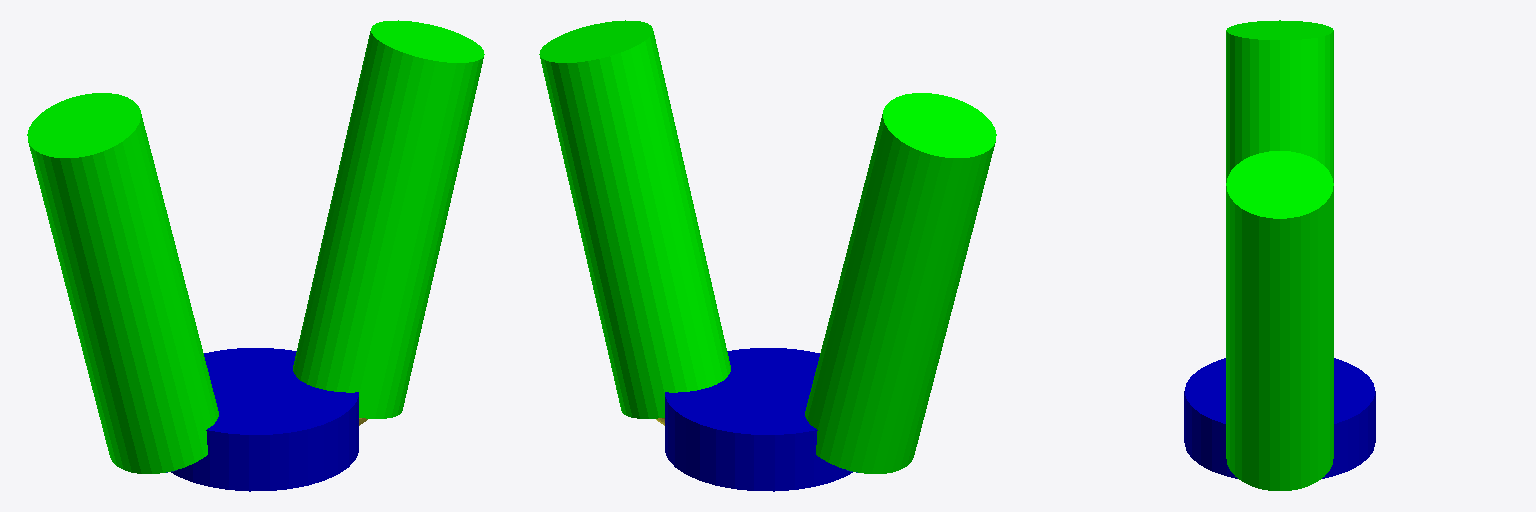
URDF robot description (gripper_2f_1j):
<?xml version='1.0' encoding='UTF-8'?>
<robot name="gripper_2f_1j">
  <link name="palm">
    <inertial>
      <origin xyz="0.0 0.0 0.0" rpy="0.0 -0.0 0.0"/>
      <mass value="1.0"/>
      <inertia ixx="1.0" ixy="0.0" ixz="0.0" iyy="1.0" iyz="0.0" izz="1.0"/>
    </inertial>
    <visual>
      <geometry>
        <cylinder radius="0.05" length="0.03"/>
      </geometry>
      <material name="blue"/>
      <origin xyz="0.0 0.0 0.0" rpy="0.0 -0.0 0.0"/>
    </visual>
    <collision>
      <geometry>
        <cylinder radius="0.05" length="0.03"/>
      </geometry>
      <origin xyz="0.0 0.0 0.0" rpy="0.0 0.0 0.0"/>
    </collision>
  </link>
  <link name="f11">
    <inertial>
      <origin xyz="0.0 0.0 0.0" rpy="0.0 -0.0 0.0"/>
      <mass value="1.0"/>
      <inertia ixx="1.0" ixy="0.0" ixz="0.0" iyy="1.0" iyz="0.0" izz="1.0"/>
    </inertial>
    <visual>
      <geometry>
        <cylinder radius="0.028120199259983766" length="0.18446123552582624"/>
      </geometry>
      <material name="green"/>
      <origin xyz="0.0 0.0 0.09223061776291312" rpy="0.0 -0.0 0.0"/>
    </visual>
    <collision>
      <geometry>
        <cylinder radius="0.028120199259983766" length="0.18446123552582624"/>
      </geometry>
      <origin xyz="0.0 0.0 0.05" rpy="0.0 0.0 0.0"/>
    </collision>
  </link>
  <link name="f21">
    <inertial>
      <origin xyz="0.0 0.0 0.0" rpy="0.0 -0.0 0.0"/>
      <mass value="1.0"/>
      <inertia ixx="1.0" ixy="0.0" ixz="0.0" iyy="1.0" iyz="0.0" izz="1.0"/>
    </inertial>
    <visual>
      <geometry>
        <cylinder radius="0.028120199259983766" length="0.18446123552582624"/>
      </geometry>
      <material name="green"/>
      <origin xyz="0.0 0.0 0.09223061776291312" rpy="0.0 -0.0 0.0"/>
    </visual>
    <collision>
      <geometry>
        <cylinder radius="0.028120199259983766" length="0.18446123552582624"/>
      </geometry>
      <origin xyz="0.0 0.0 0.05" rpy="0.0 0.0 0.0"/>
    </collision>
  </link>
  <link name="f11_base">
    <inertial>
      <origin xyz="0.0 0.0 0.0" rpy="0.0 -0.0 0.0"/>
      <mass value="1.0"/>
      <inertia ixx="1.0" ixy="0.0" ixz="0.0" iyy="1.0" iyz="0.0" izz="1.0"/>
    </inertial>
    <visual>
      <geometry>
        <sphere radius="0.015"/>
      </geometry>
      <origin xyz="0.0 0.0 0.0" rpy="0.0 -0.0 0.0"/>
    </visual>
  </link>
  <link name="f21_base">
    <inertial>
      <origin xyz="0.0 0.0 0.0" rpy="0.0 -0.0 0.0"/>
      <mass value="1.0"/>
      <inertia ixx="1.0" ixy="0.0" ixz="0.0" iyy="1.0" iyz="0.0" izz="1.0"/>
    </inertial>
    <visual>
      <geometry>
        <sphere radius="0.015"/>
      </geometry>
      <origin xyz="0.0 0.0 0.0" rpy="0.0 -0.0 0.0"/>
    </visual>
  </link>
  <joint name="f11_joint" type="revolute">
    <dynamics damping="100.0" friction="1.0"/>
    <limit effort="30.0" velocity="2.0" lower="-0.6" upper="0.25"/>
    <parent link="f11_base"/>
    <child link="f11"/>
    <axis xyz="0. 1. 0."/>
    <origin xyz="0.0 0.0 0.0" rpy="0.0 0.25 0.0"/>
  </joint>
  <joint name="f21_joint" type="revolute">
    <dynamics damping="100.0" friction="1.0"/>
    <limit effort="30.0" velocity="2.0" lower="-0.6" upper="0.25"/>
    <parent link="f21_base"/>
    <child link="f21"/>
    <axis xyz=" 0. -1.  0."/>
    <origin xyz="0.0 0.0 0.0" rpy="0.0 -0.25 0.0"/>
  </joint>
  <joint name="f11_base_joint" type="fixed">
    <parent link="palm"/>
    <child link="f11_base"/>
    <axis xyz="1. 0. 0."/>
    <origin xyz="0.05 0.0 0.0" rpy="0.0 0.0 0.0"/>
  </joint>
  <joint name="f21_base_joint" type="fixed">
    <parent link="palm"/>
    <child link="f21_base"/>
    <axis xyz="1. 0. 0."/>
    <origin xyz="-0.05 -0.0 0.0" rpy="0.0 0.0 0.0"/>
  </joint>
  <material name="blue">
    <color rgba="0.  0.  0.8 1. "/>
  </material>
  <material name="green">
    <color rgba="0. 1. 0. 1."/>
  </material>
</robot>

--- What the picture shows (computed from the rendered views, not written in the file) ---
Views: 3 orthographic renders of the robot side by side, from view 1: azimuth 30°, elevation 25°; view 2: azimuth 150°, elevation 25°; view 3: azimuth 270°, elevation 25°.
Model gripper_2f_1j with 5 links and 4 joints (2 revolute, 2 fixed), rooted at palm, posed every joint at zero.
Visible links, largest first — view 1: f11, f21, palm; view 2: f11, f21, palm; view 3: f11, f21, palm.
Boxes of the visible links, x1,y1,x2,y2 form: f11: (293,20,484,418); f21: (27,93,218,473); palm: (171,348,358,491); f11: (539,20,730,418); f21: (805,93,996,473); palm: (665,348,852,491); f11: (1226,151,1333,490); f21: (1226,20,1333,182); palm: (1184,358,1375,478).
Bounding box of the posed robot: 0.2458 × 0.1 × 0.2007 m (x, y, z).
Geometry: primitives only (box / cylinder / sphere), no mesh files.